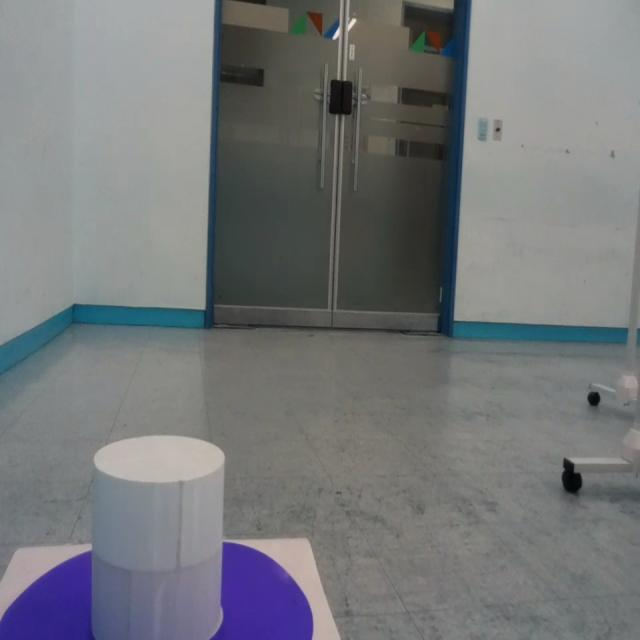cylinder: (90, 436, 226, 638)
